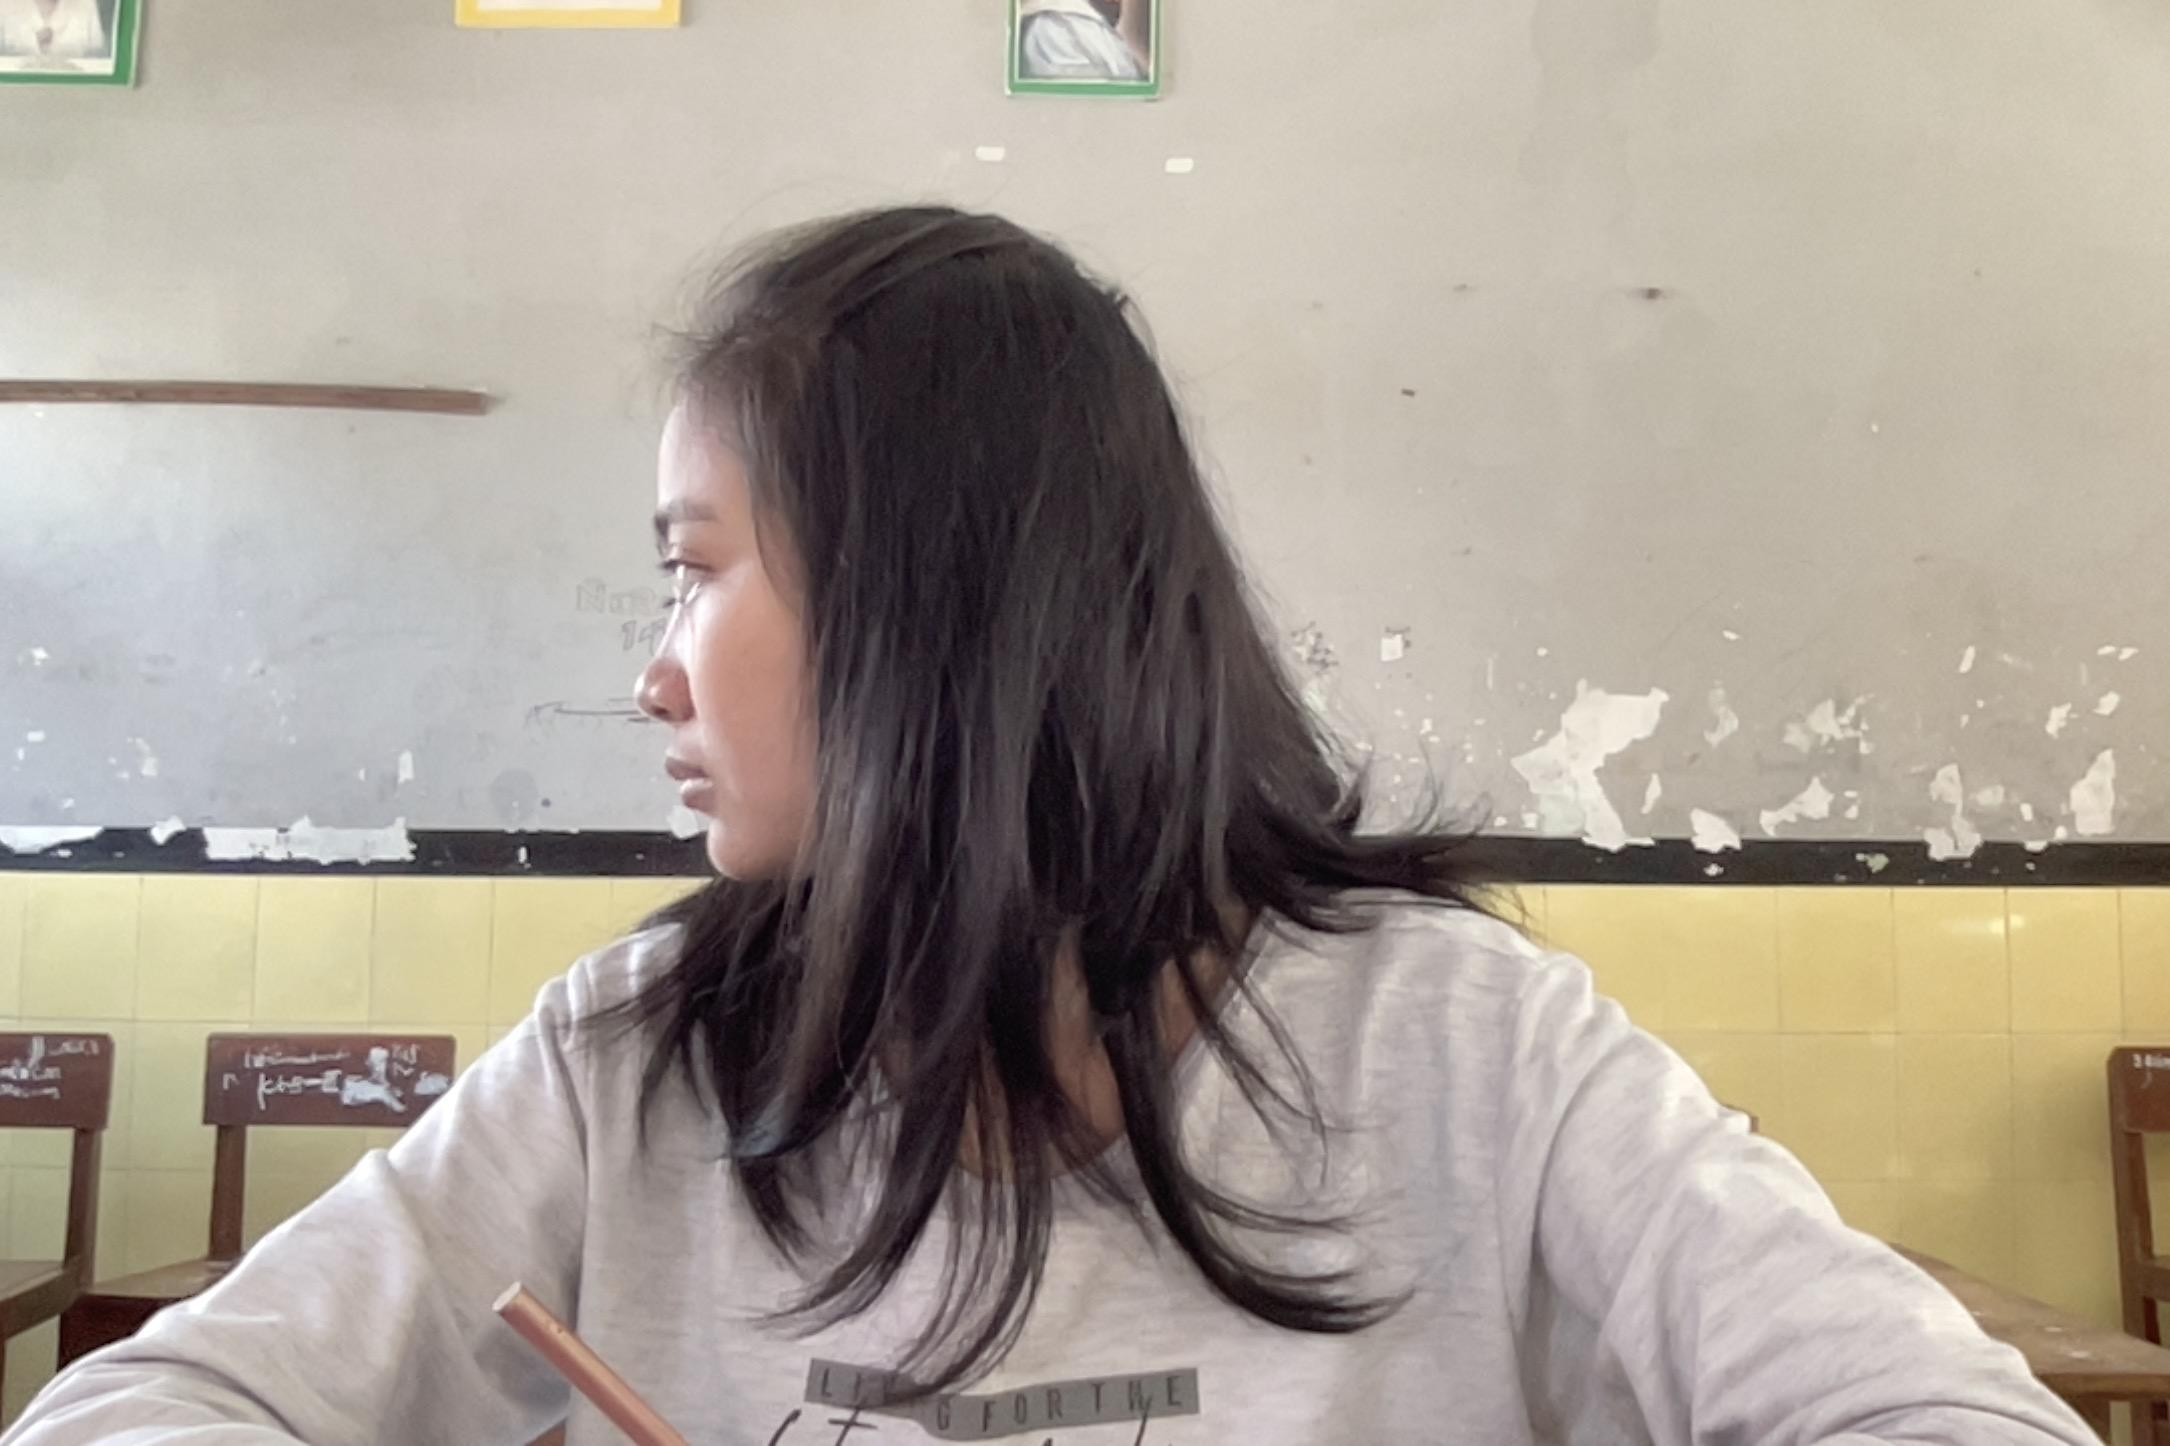cheating: (34, 184, 2141, 1446)
